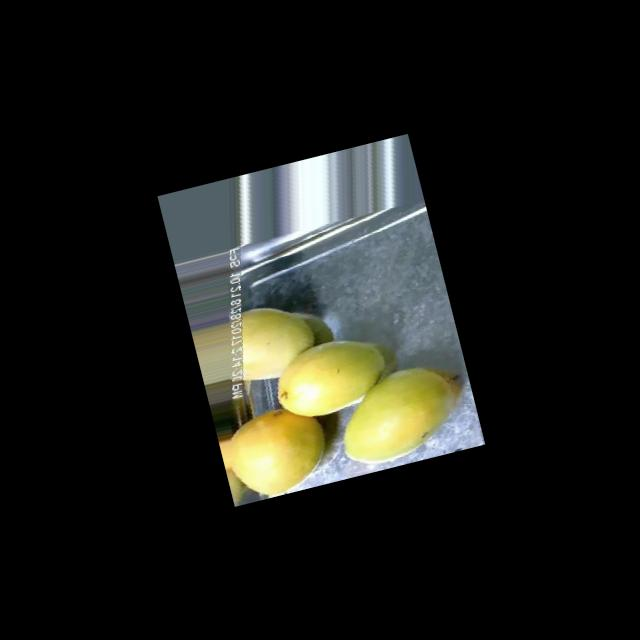Mango: (326, 357, 474, 472), (188, 296, 320, 396), (266, 330, 394, 426), (218, 400, 334, 505)
